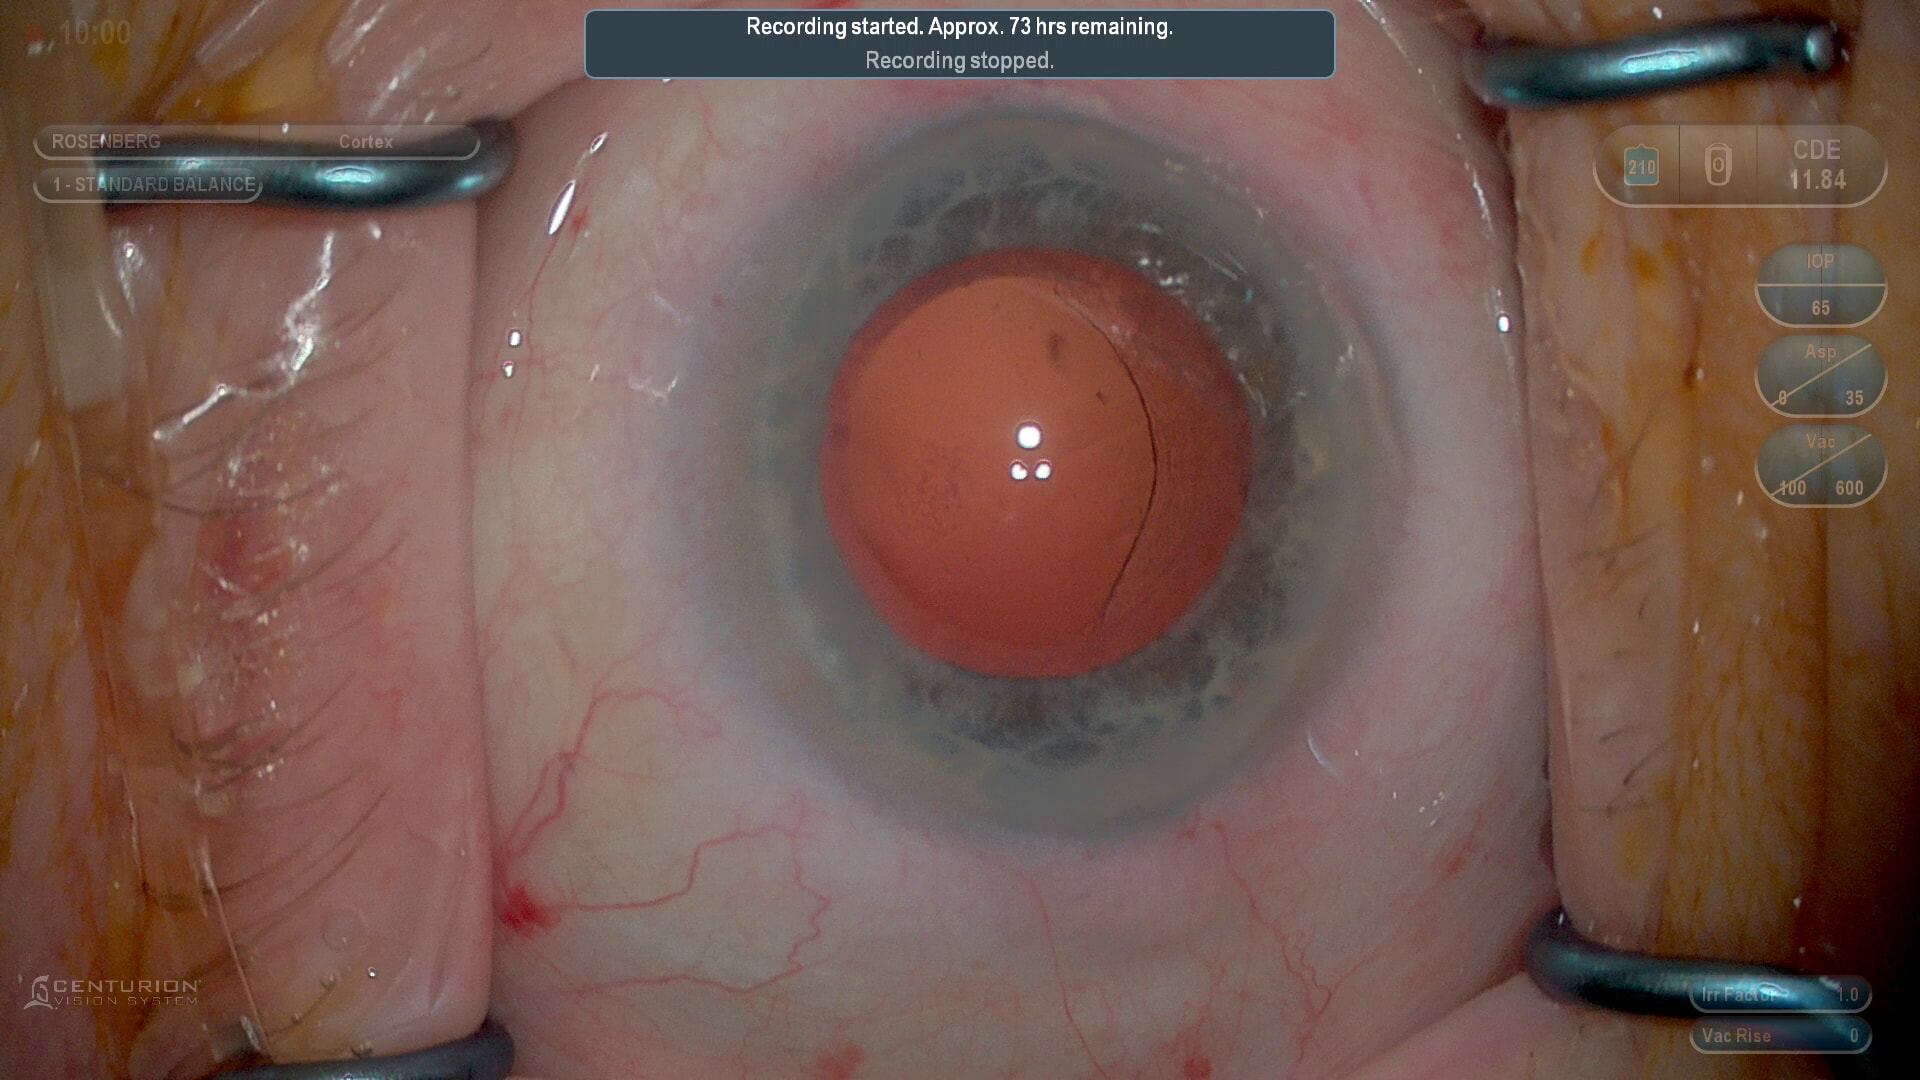iris: (745, 111, 1367, 800)
pupil: (823, 243, 1262, 675)
